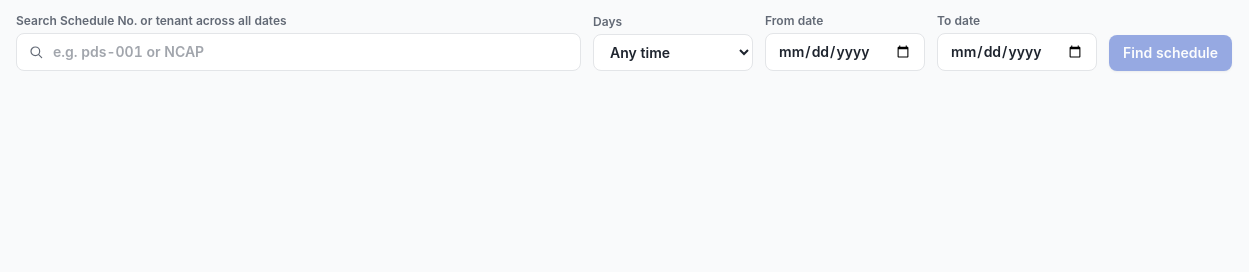
Scenario: uses upcoming schedules for a tenant-only top search
Step 1. Type "NCA" into the dropdown labelled "Search Schedule No. or tenant across all dates" → (299, 52), box [16, 33, 581, 71]
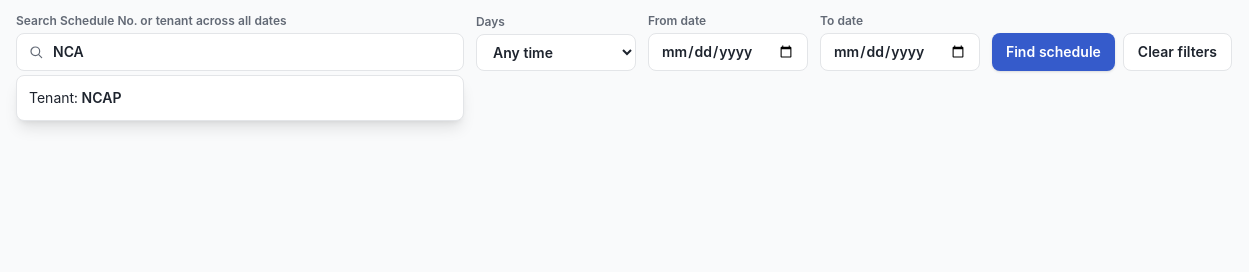
Step 2. Click the option "Tenant: NCAP" → (75, 98), box [29, 89, 121, 106]
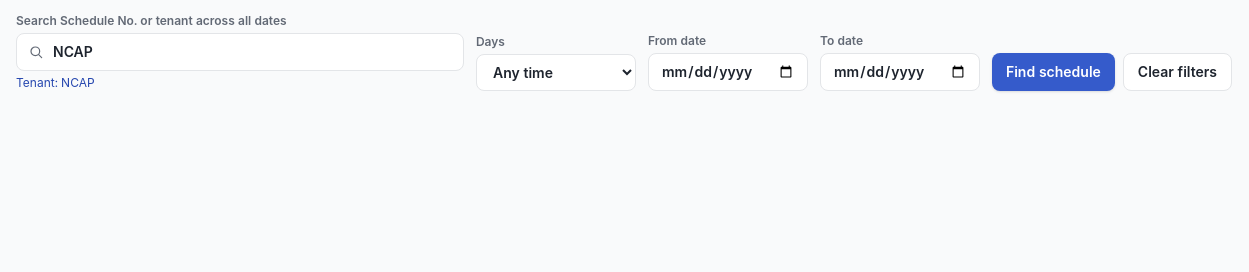
Step 3. Click the button "Find schedule" → (1053, 72), box [992, 53, 1115, 91]
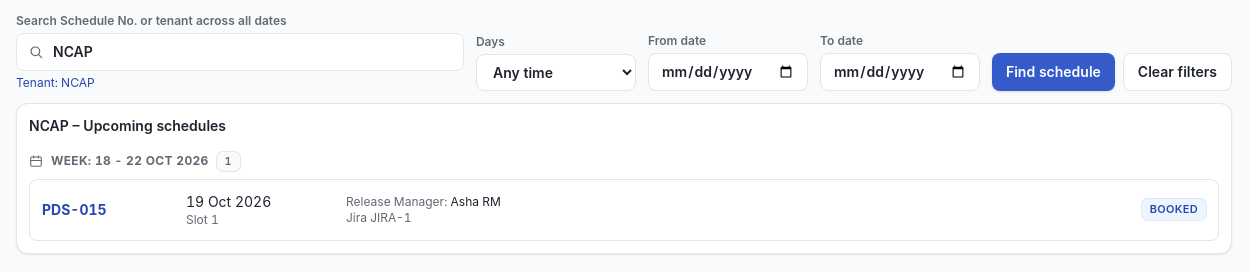
Expected: the heading "NCAP – Upcoming schedules" is shown, [29, 117, 226, 134]
